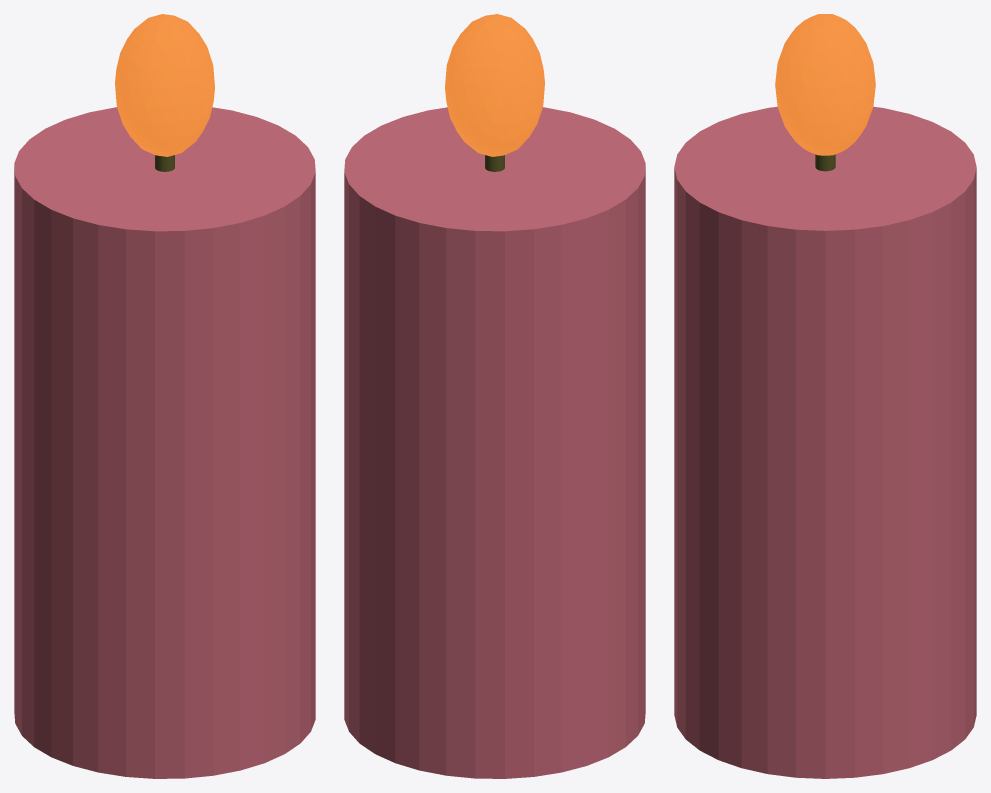
3 views of the same model, side by side, from view 1: azimuth 30°, elevation 25°; view 2: azimuth 150°, elevation 25°; view 3: azimuth 270°, elevation 25° (orthographic).
Visible parts, largest first — view 1: Candle_Body, Flame; view 2: Candle_Body, Flame; view 3: Candle_Body, Flame.
Boxes of the visible parts, box(x1,y1,x2,y2) form: Candle_Body: box(14, 107, 315, 778); Flame: box(115, 14, 214, 156); Candle_Body: box(344, 107, 645, 778); Flame: box(445, 14, 544, 156); Candle_Body: box(674, 106, 976, 778); Flame: box(775, 14, 875, 155).
Size of what is drawn, in the model's own units: 0.3 by 0.765 by 0.3.
